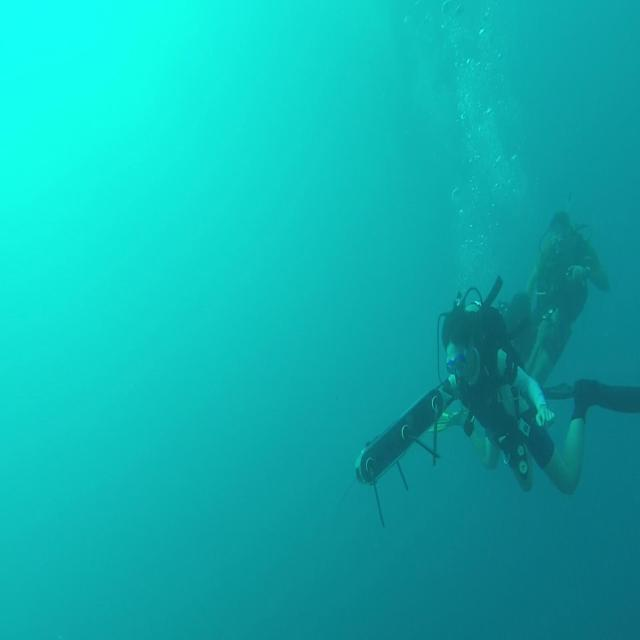human: (435, 288, 639, 495), (504, 208, 610, 388)
